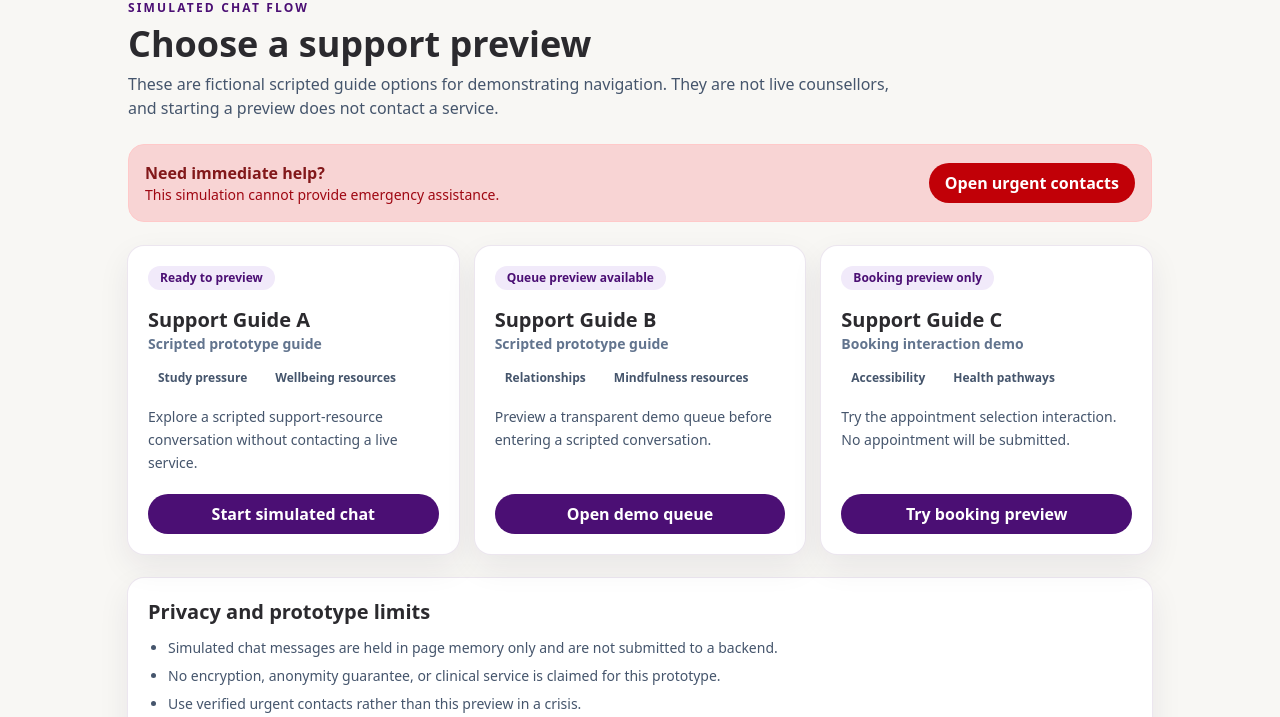
Test case: ProfessionalSelectionPage › confirms a booking preview without claiming a booking was submitted
Click the button "Try booking preview". click: [987, 514]
box: [841,494,1132,534]
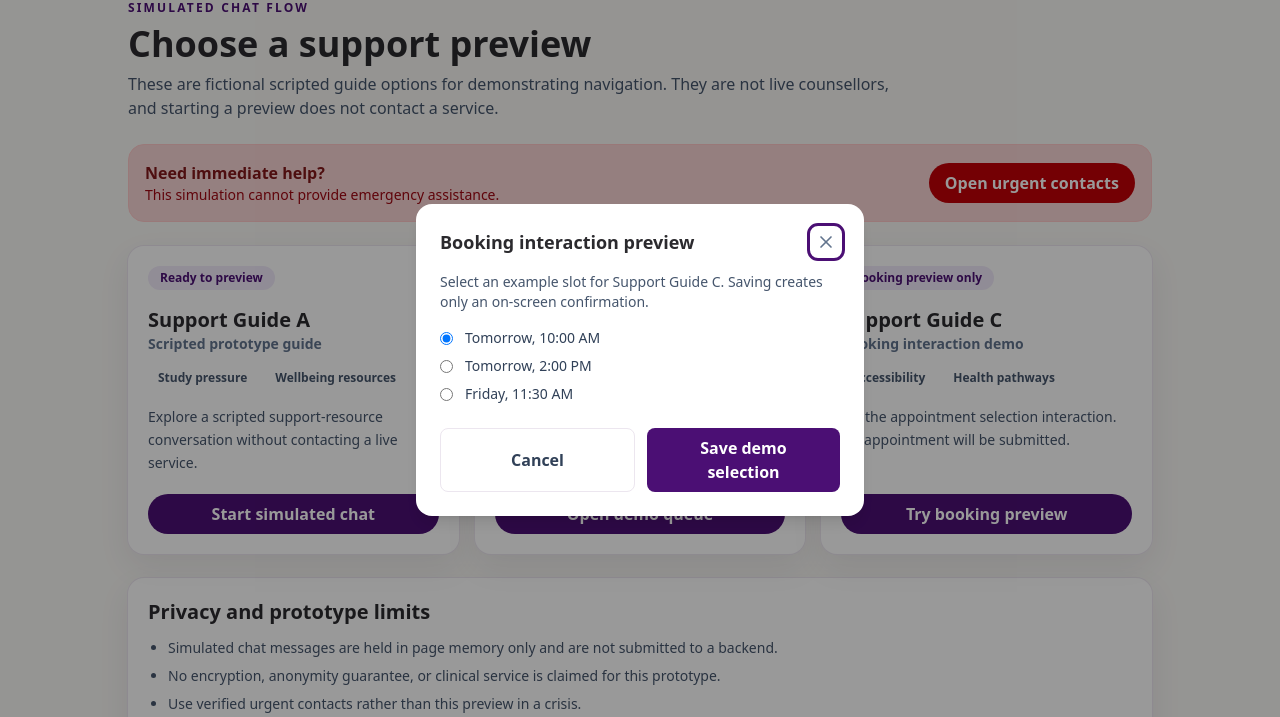
Now the dialog "Booking interaction preview" is shown, box [416,204,864,516]
Press Tab
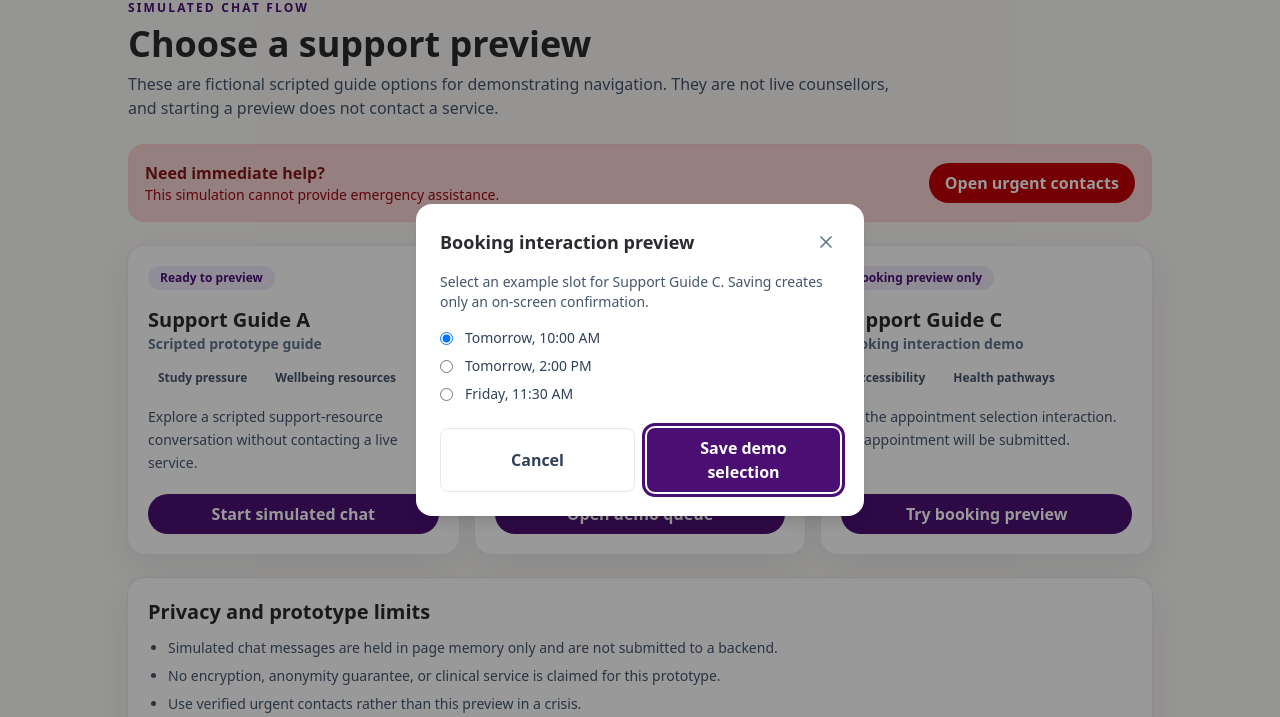
Press Tab
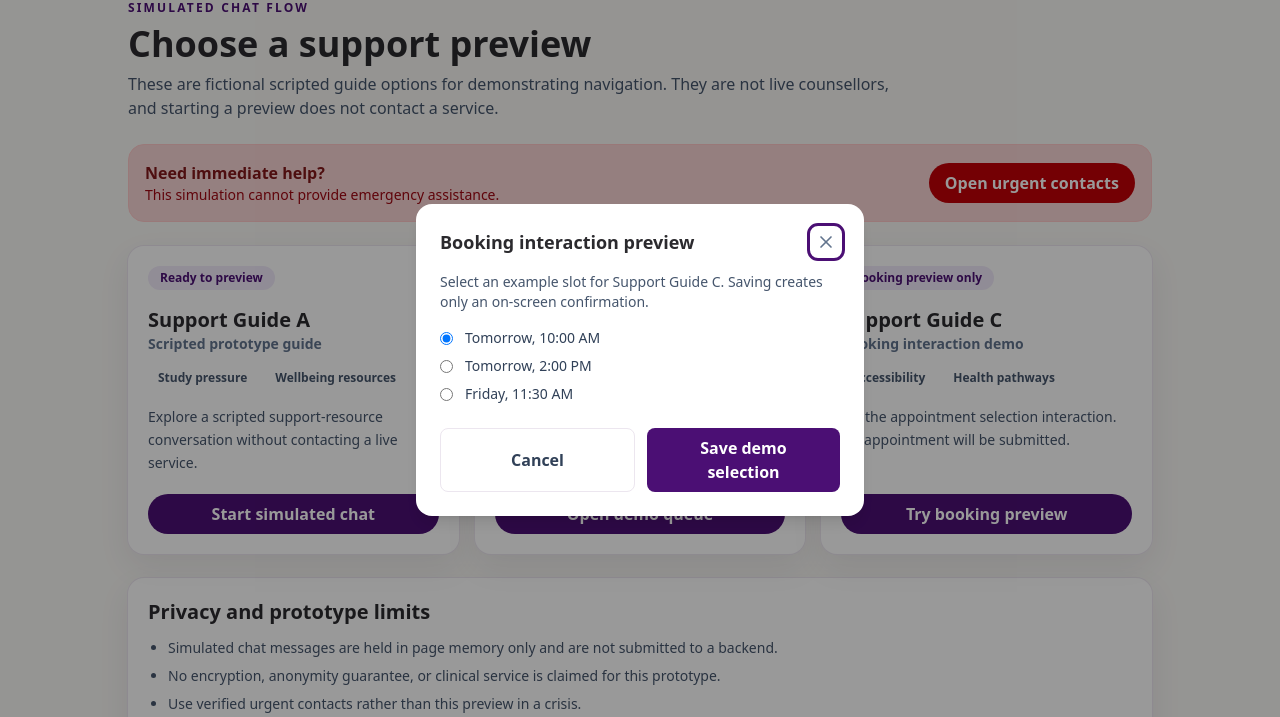
Click the button "Save demo selection". click: [744, 460]
box: [647,428,840,492]
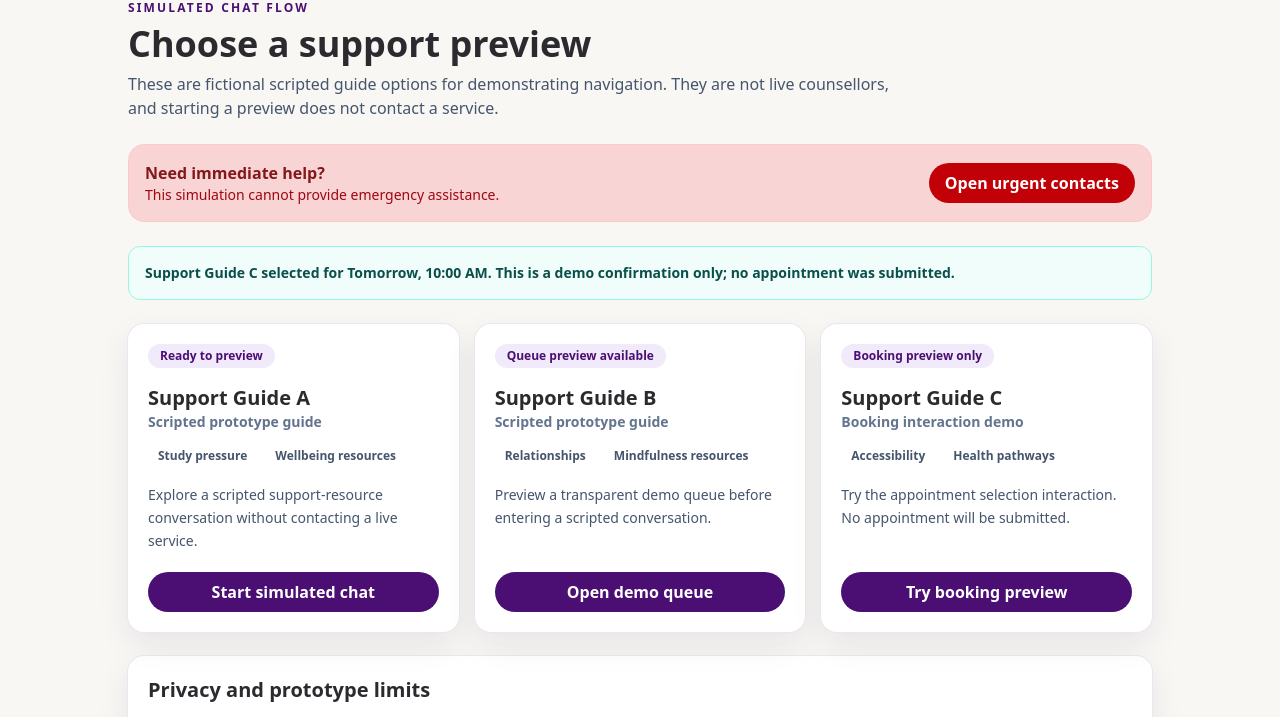
Now the message shows "no appointment was submitted", box [145,263,955,282]
